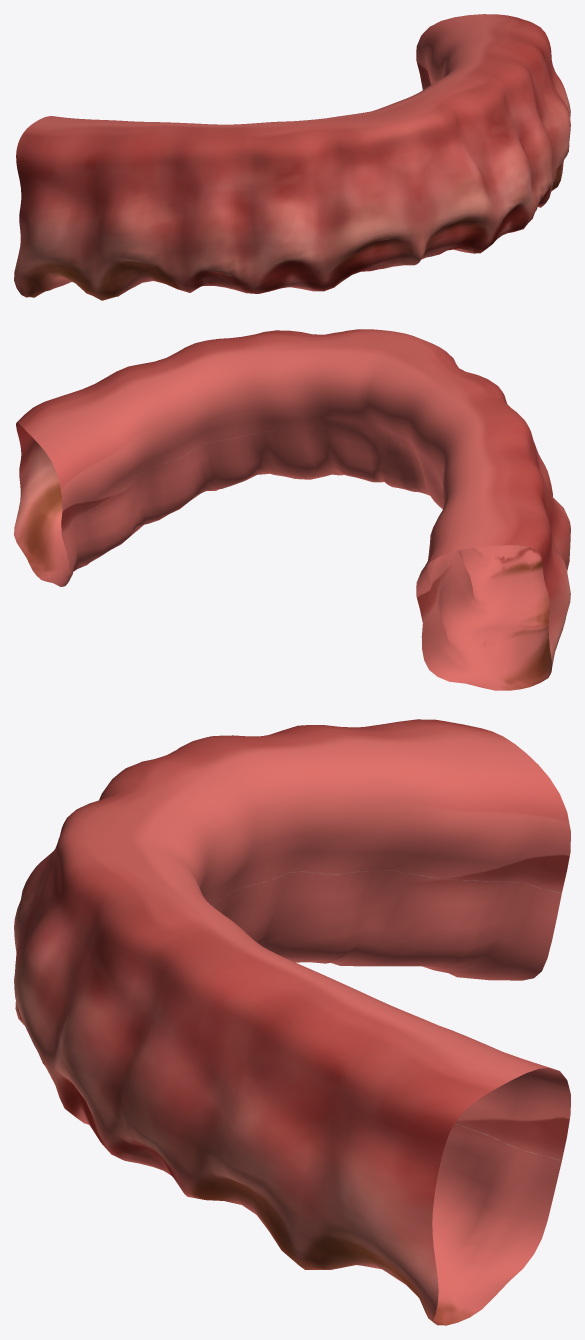
The model's file is CGumTop.glb.
The picture shows the model from 3 angles, top to bottom: view 1: azimuth 30°, elevation 25°; view 2: azimuth 150°, elevation 25°; view 3: azimuth 270°, elevation 25°; orthographic projection. The views are drawn at different scales.
Parts seen in each view (by area): view 1: GumTop; view 2: GumTop; view 3: GumTop.
Boxes of the visible parts, box(x1,y1,x2,y2) form: GumTop: box(14, 14, 570, 300); GumTop: box(14, 329, 570, 690); GumTop: box(14, 719, 570, 1325).
Size of the model in its own units: 1.86 by 0.6754 by 1.1.
Materials: 1 (1 with a texture image).
